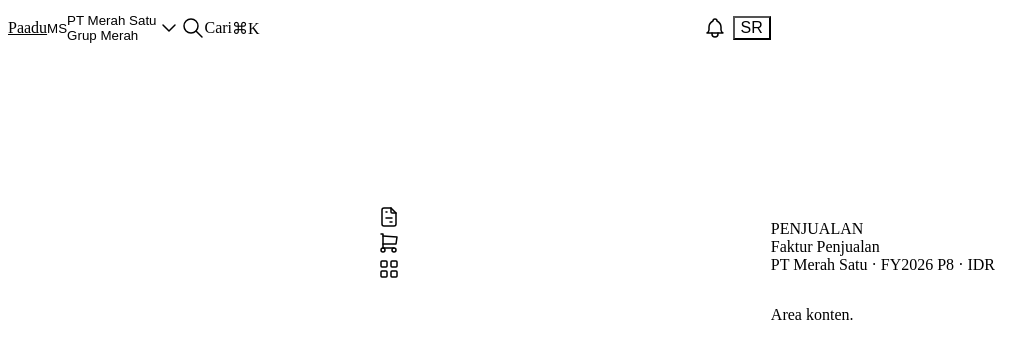
pengalih bahasa berada di menu profil, bersama tema dan kepadatan
Click the button "SR" at (752, 28), box [733, 16, 771, 40]
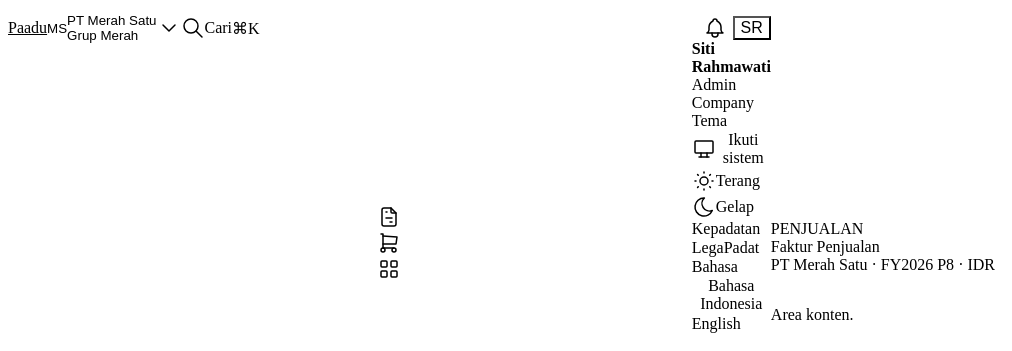
Now the element named "Tema" is shown, box [692, 130, 771, 220]
Now the element named "Kepadatan" is shown, box [692, 238, 771, 258]
Now the element "Bahasa" is shown, box [692, 276, 771, 334]
